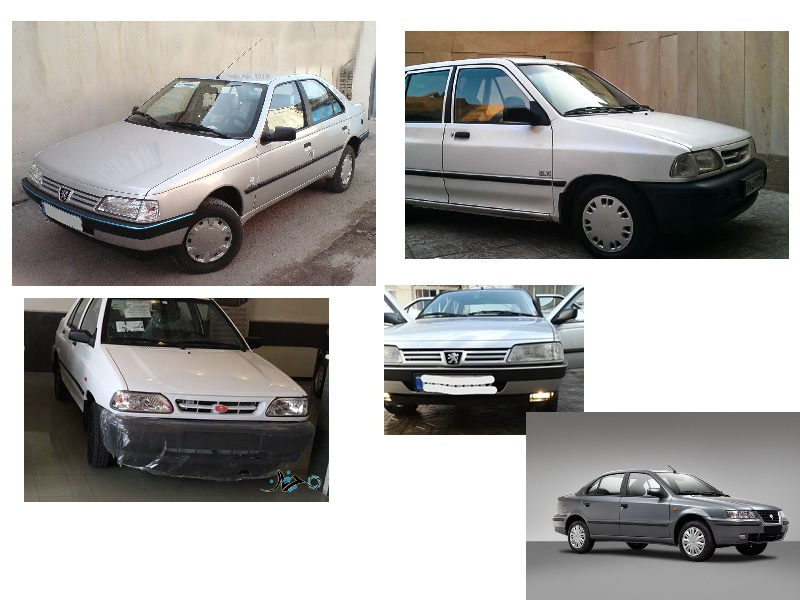peugeot: (20, 66, 368, 274), (382, 283, 557, 409)
pride: (407, 48, 768, 256), (44, 288, 312, 485)
samand: (548, 459, 788, 577)
